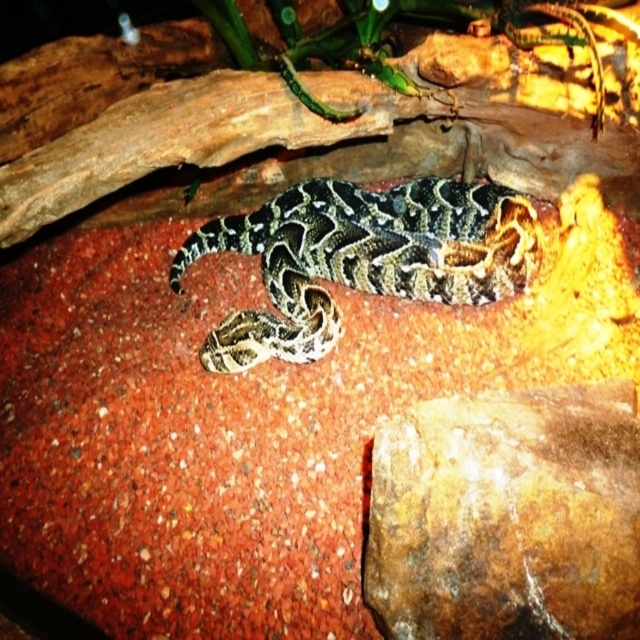Snake: (171, 176, 556, 372)
